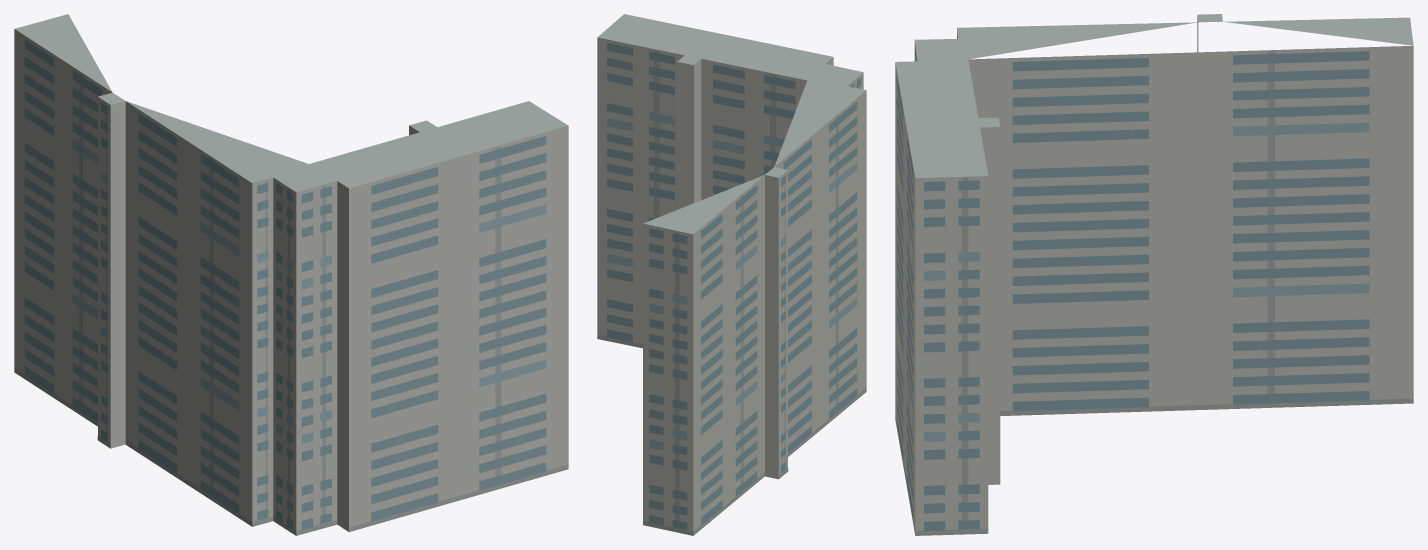
File: residential-0ad3925d-a2f6-49d3-b38c-fe7ed01b9676.glb
The picture shows the model from 3 angles, left to right: view 1: azimuth 30°, elevation 25°; view 2: azimuth 150°, elevation 25°; view 3: azimuth 270°, elevation 25°; orthographic projection. The views are drawn at different scales.
Visible parts, largest first — view 1: residential-0ad3925d-a2f6-49d3-b38c-fe7ed01b9676.tmp; view 2: residential-0ad3925d-a2f6-49d3-b38c-fe7ed01b9676.tmp; view 3: residential-0ad3925d-a2f6-49d3-b38c-fe7ed01b9676.tmp.
Part boxes in pixels (bbox=[...]): residential-0ad3925d-a2f6-49d3-b38c-fe7ed01b9676.tmp: bbox=[14, 14, 568, 535]; residential-0ad3925d-a2f6-49d3-b38c-fe7ed01b9676.tmp: bbox=[597, 14, 866, 535]; residential-0ad3925d-a2f6-49d3-b38c-fe7ed01b9676.tmp: bbox=[895, 14, 1413, 535].
Bounding box in the file's own units: 60.08 × 61 × 80.11.
